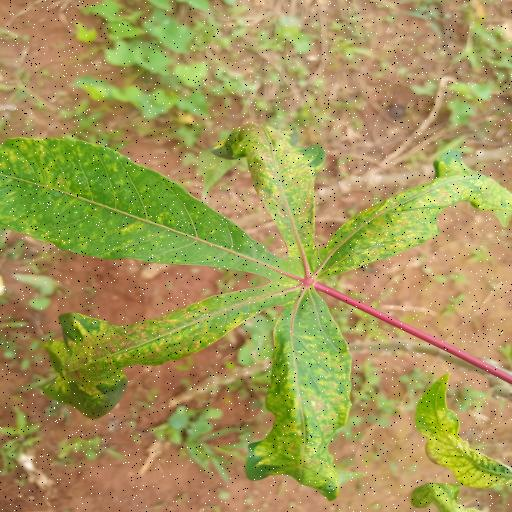Cassava_Mosaic: (0, 126, 512, 503)
